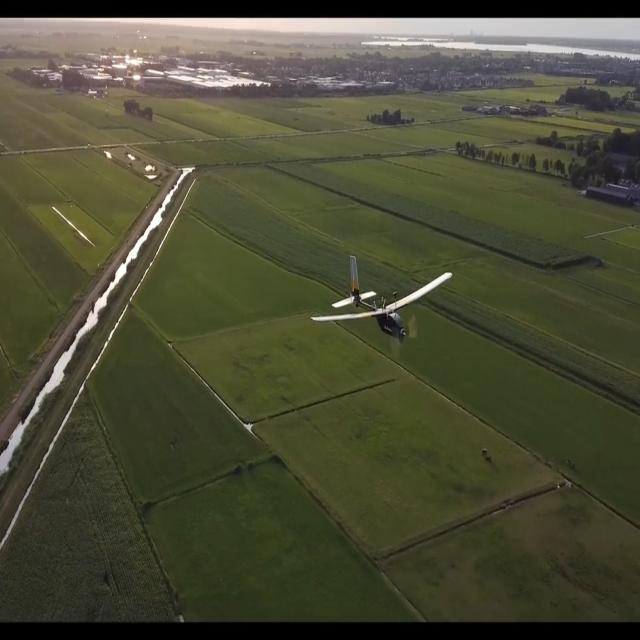iha: (308, 277, 454, 312)
